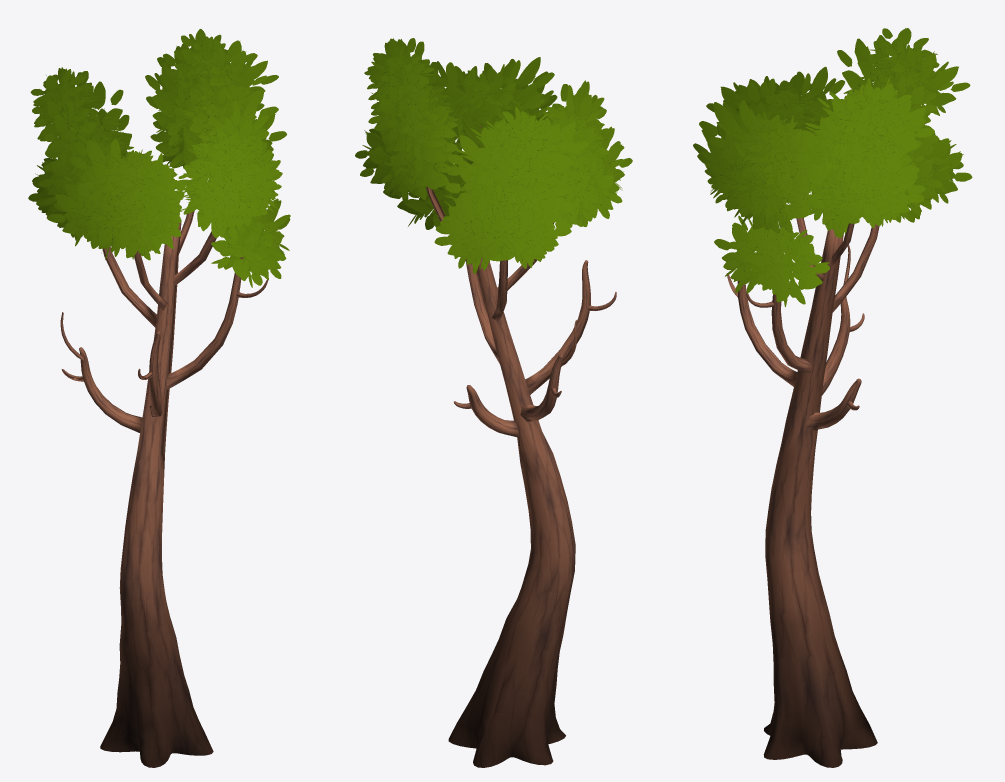
The model's file is commontree_4.glb.
The picture shows the model from 3 angles, left to right: view 1: azimuth 30°, elevation 25°; view 2: azimuth 150°, elevation 25°; view 3: azimuth 270°, elevation 25°; orthographic projection. The views are drawn at different scales.
Visible parts, largest first — view 1: CommonTree_4; view 2: CommonTree_4; view 3: CommonTree_4.
Boxes of the visible parts, box(x1,y1,x2,y2) form: CommonTree_4: box(28, 29, 290, 767); CommonTree_4: box(355, 38, 632, 767); CommonTree_4: box(693, 28, 972, 767).
Bounding box in the file's own units: 3.83 × 9.44 × 3.76.
2 materials, 2 textured.
